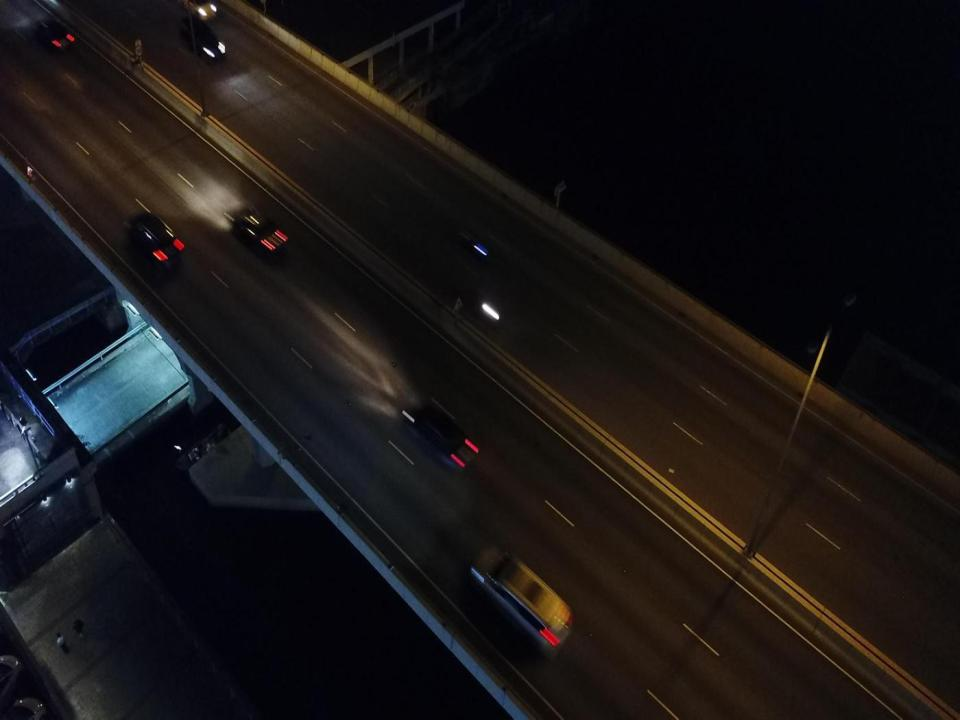car: (402, 398, 480, 467), (229, 205, 294, 258), (126, 209, 184, 262), (182, 18, 226, 62), (38, 18, 74, 50), (181, 0, 218, 20)
van: (471, 544, 572, 653)
